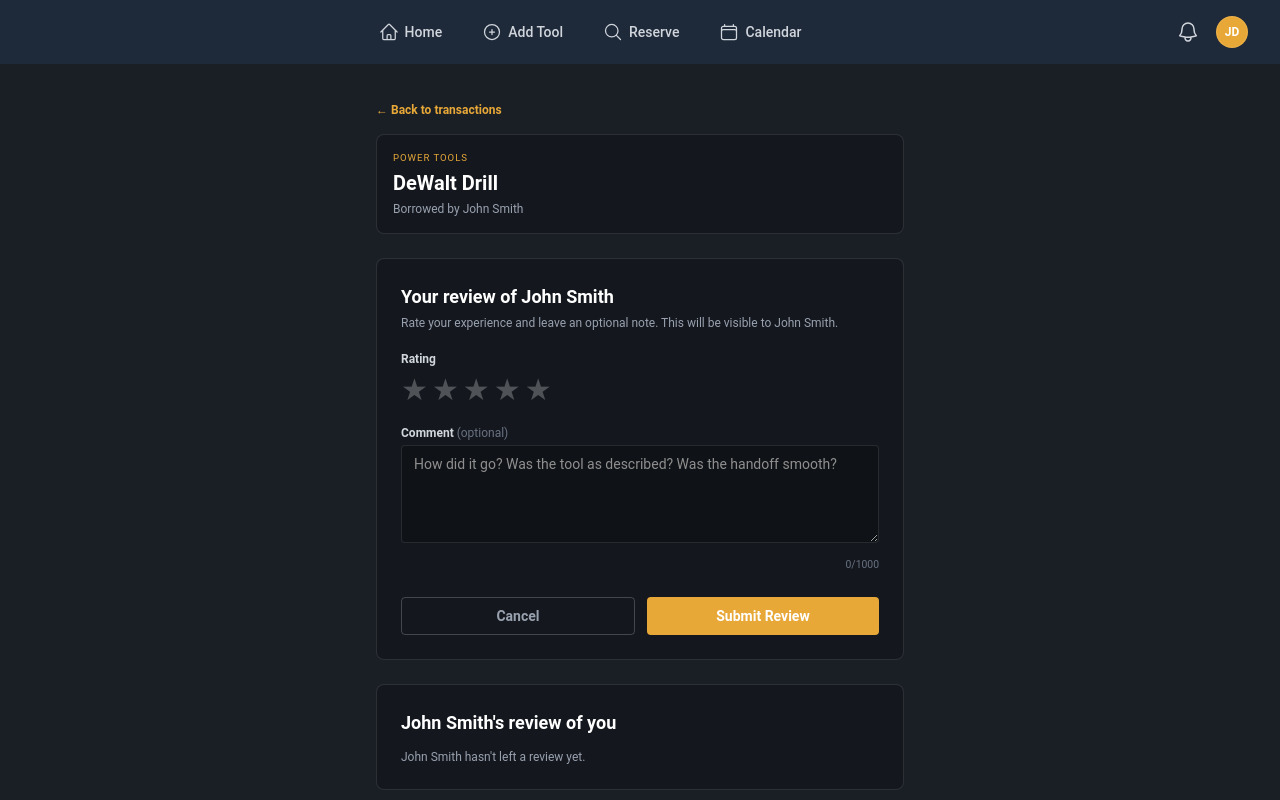
Test: MakeReview › submits a rating with no comment
The image size is (1280, 800).
Click the radio button named "4 stars". click: (507, 390)
box: [494,375,521,405]
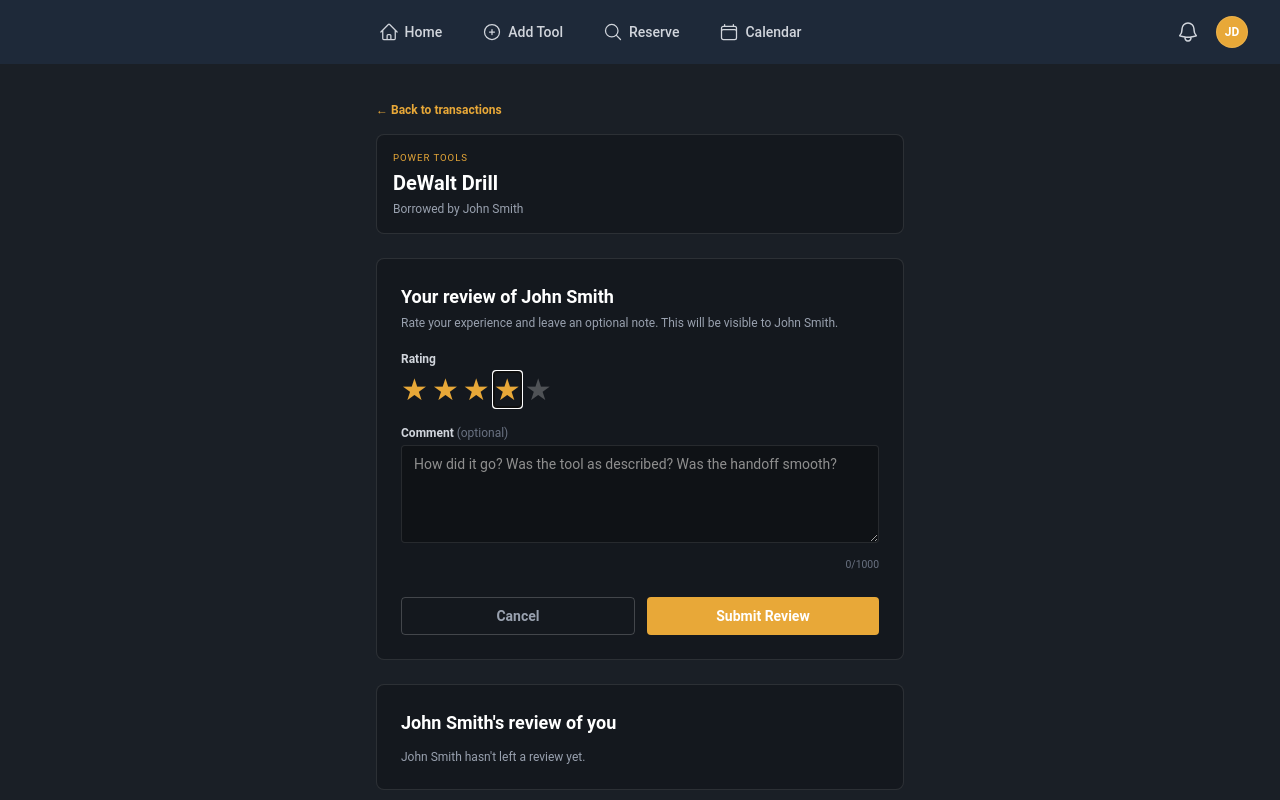
Click the button "Submit Review". click: (763, 616)
box: [647,597,879,635]
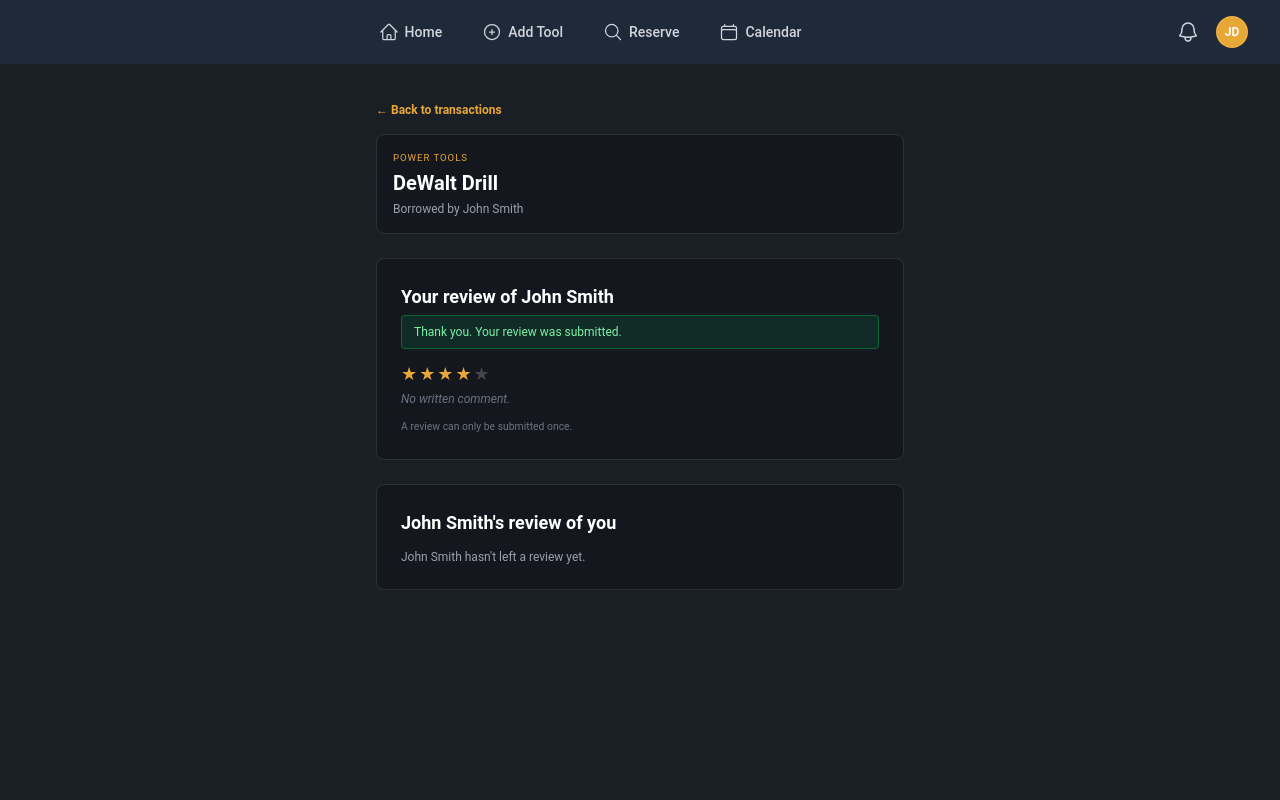
Check: the text "Thank you. Your review was submitted." is shown, box [401,315,879,349]
Check: the button "Submit Review" is gone
